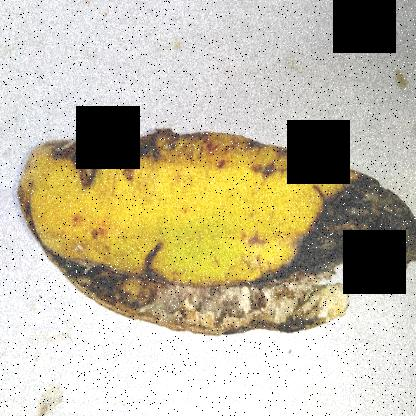rotten: (16, 246, 342, 383), (253, 148, 415, 348), (49, 101, 190, 206)
